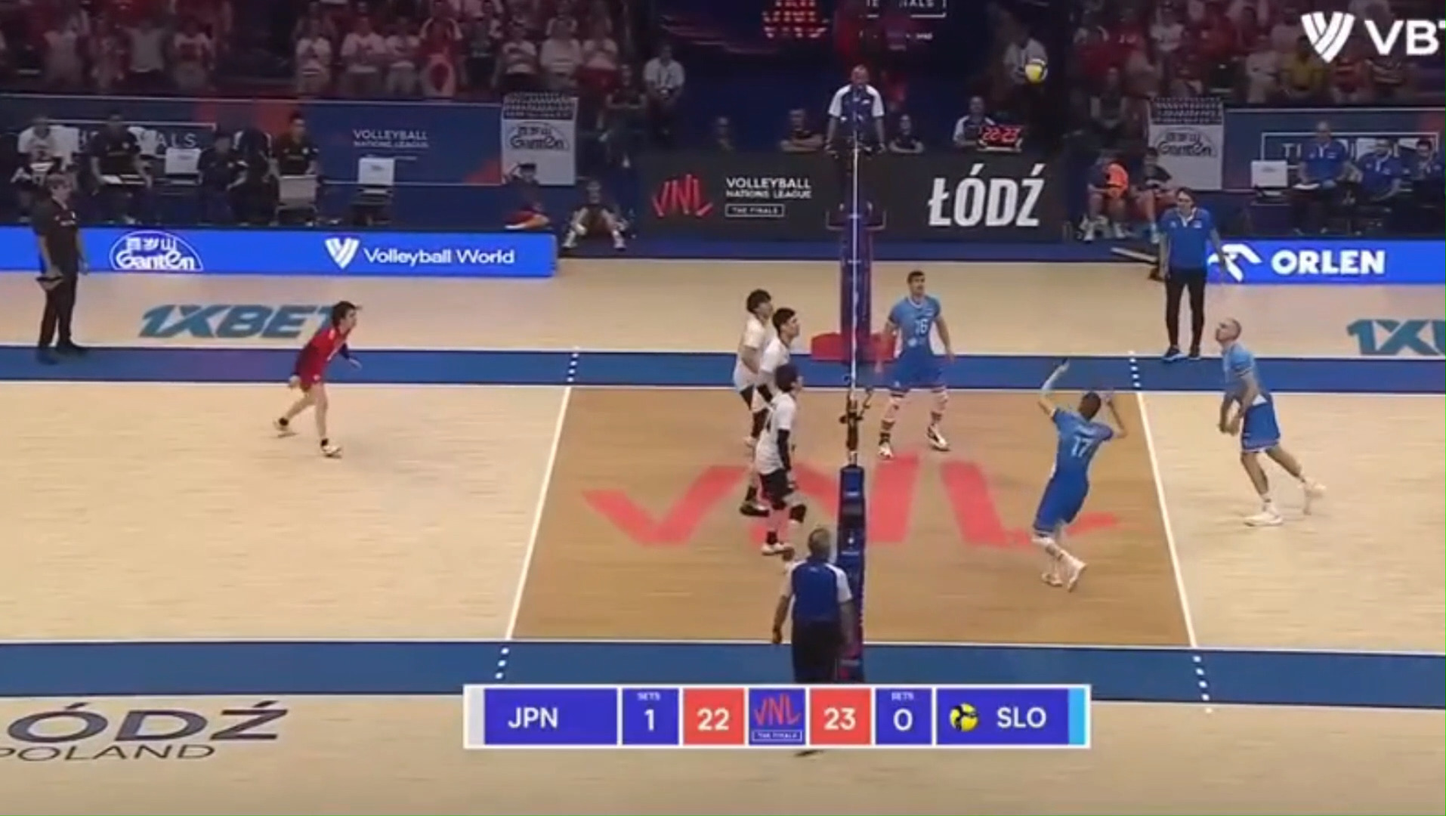ball: (1021, 57, 1047, 83)
player: (1029, 361, 1127, 590), (1215, 318, 1318, 525), (878, 270, 951, 459)
player 1: (274, 300, 359, 457), (752, 362, 806, 558), (733, 289, 772, 516), (753, 308, 799, 408)
referee: (772, 527, 857, 684), (1159, 187, 1221, 362), (824, 65, 885, 232), (32, 175, 85, 362)
